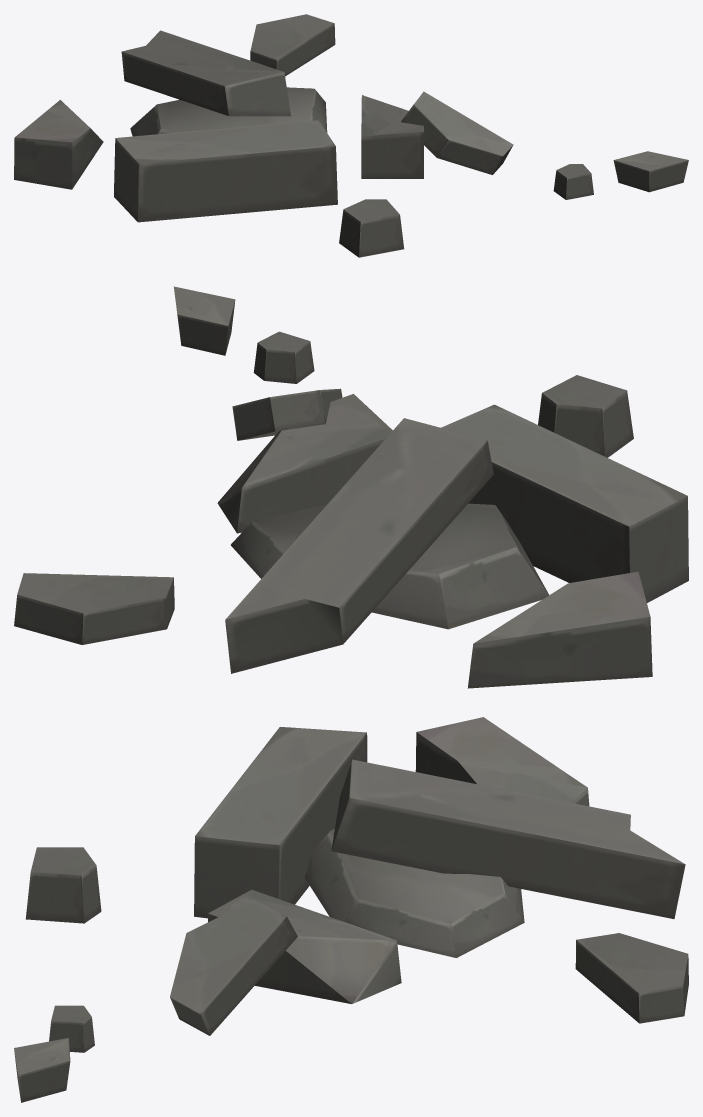
File: sc_dungeon_moshenta_zhuantou_001_b.FBX
3 renders of one model, top to bottom at view 1: azimuth 30°, elevation 25°; view 2: azimuth 150°, elevation 25°; view 3: azimuth 270°, elevation 25°, orthographic. The views are drawn at different scales.
Parts seen in each view (by area): view 1: sc_dungeon_moshenta_zhuantou_001_b; view 2: sc_dungeon_moshenta_zhuantou_001_b; view 3: sc_dungeon_moshenta_zhuantou_001_b.
Boxes of the visible parts, box(x1,y1,x2,y2) form: sc_dungeon_moshenta_zhuantou_001_b: box(14, 14, 688, 257); sc_dungeon_moshenta_zhuantou_001_b: box(14, 286, 688, 688); sc_dungeon_moshenta_zhuantou_001_b: box(14, 717, 688, 1102).
Bounding box in the file's own units: 4.16 × 3.56 × 0.745.
1 material, 1 textured.
